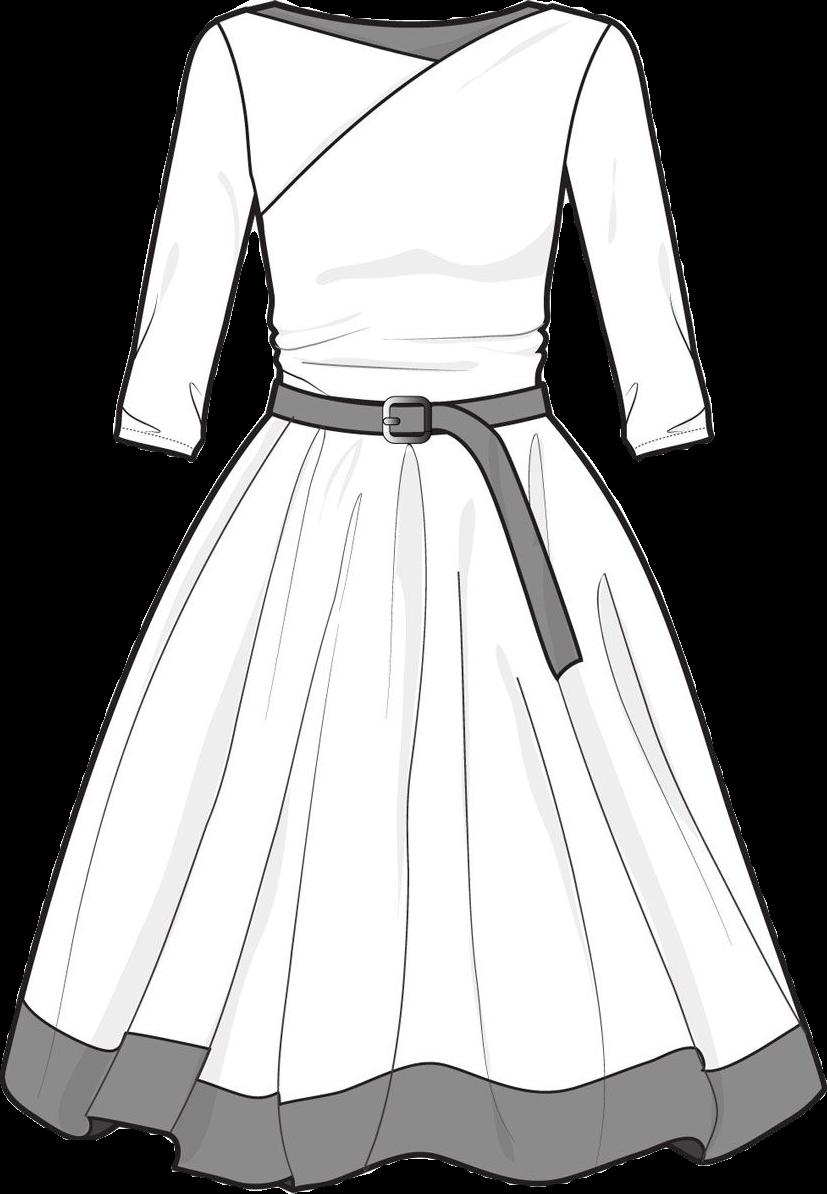Bodice: (212, 1, 611, 403)
Hemline: (0, 1079, 826, 1193)
Neckline: (251, 0, 579, 71)
Skirt: (1, 375, 826, 1193)
Sleeve: (564, 17, 714, 459), (113, 13, 256, 462)
Sleeveline: (554, 16, 617, 200), (211, 16, 264, 230)
Waistline: (263, 405, 561, 443), (279, 365, 549, 404)
